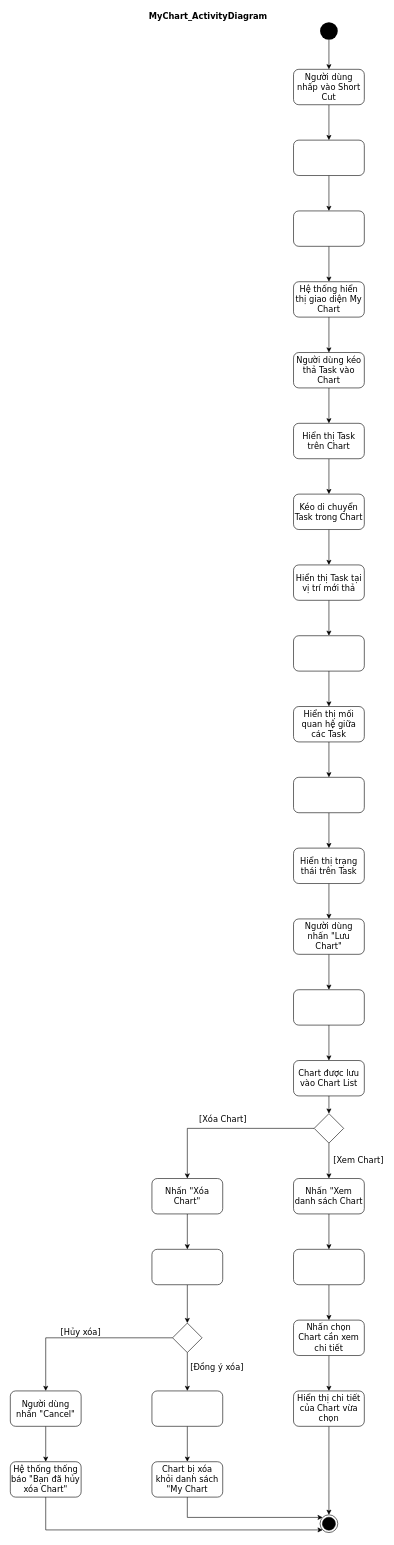
This 394x1545 diagram has some shape labels left out. Here are the shapes that lost their labels. From the top down, the box of each, then its label:
(293, 140, 364, 176): Hiển thị sidebar
(293, 210, 364, 246): Người dùng nhấp vào "MyChart"
(293, 635, 364, 671): Người dùng thiết lập mới quan hệ cho Task
(293, 777, 364, 813): Người dùng chọn trạng thái cho Task
(293, 989, 364, 1025): Hệ thống thông báo "Lưu thành công"
(151, 1249, 223, 1285): Hệ thống thông báo "Bạn có chắc chắn muốn xóa Chart
(293, 1249, 364, 1285): Hiển thị danh sách Chart
(151, 1390, 223, 1426): Người dùng nhấn "OK"
